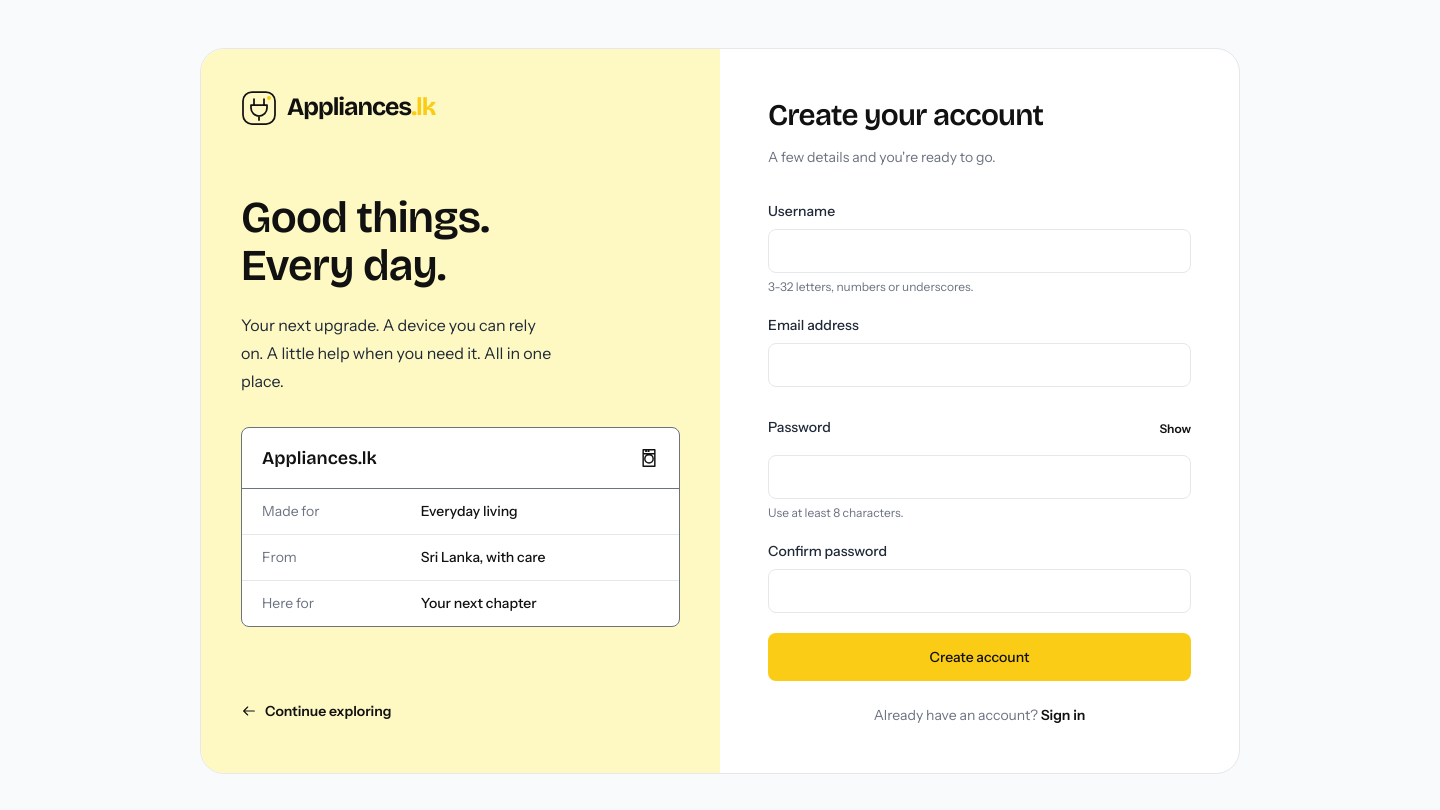
Scenario: AuthForm › Register Mode › should show error when passwords do not match
Type "newuser" into the field labelled "Username" at (980, 251), box [768,229,1191,273]
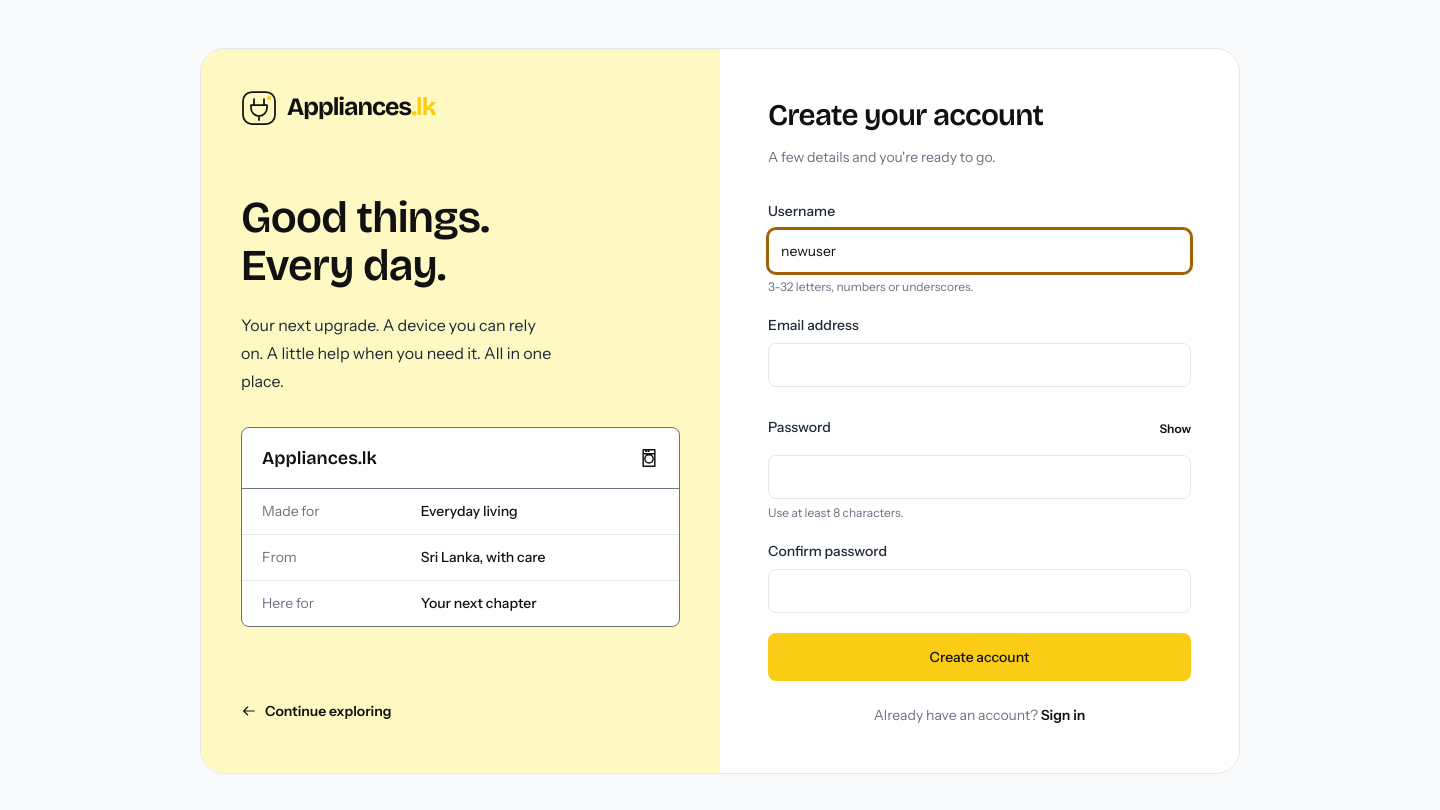
Type "new@example.com" into the field labelled "Email address" at (980, 365), box [768,343,1191,387]
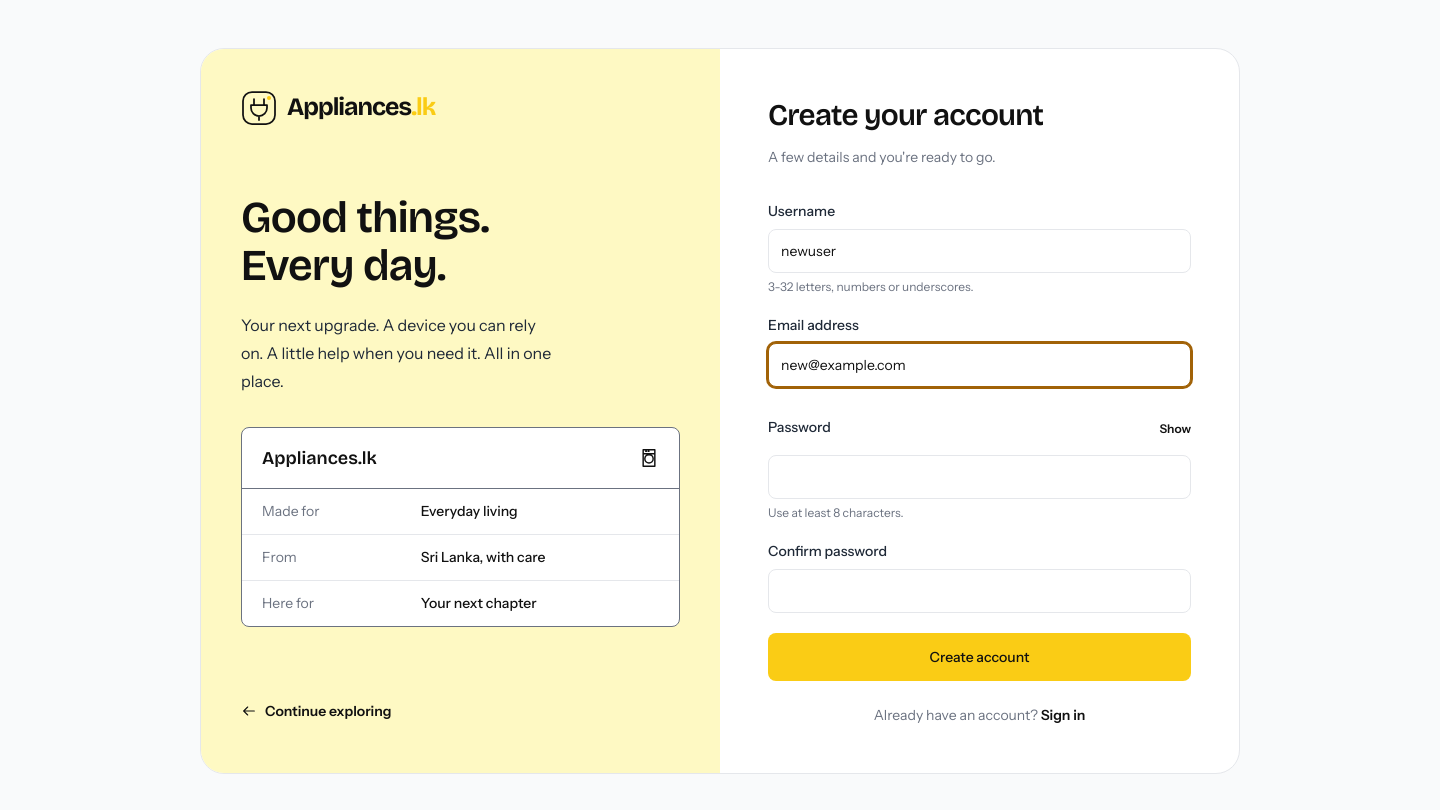
Type "password123" into the password field labelled "Password" at (980, 477), box [768,455,1191,499]
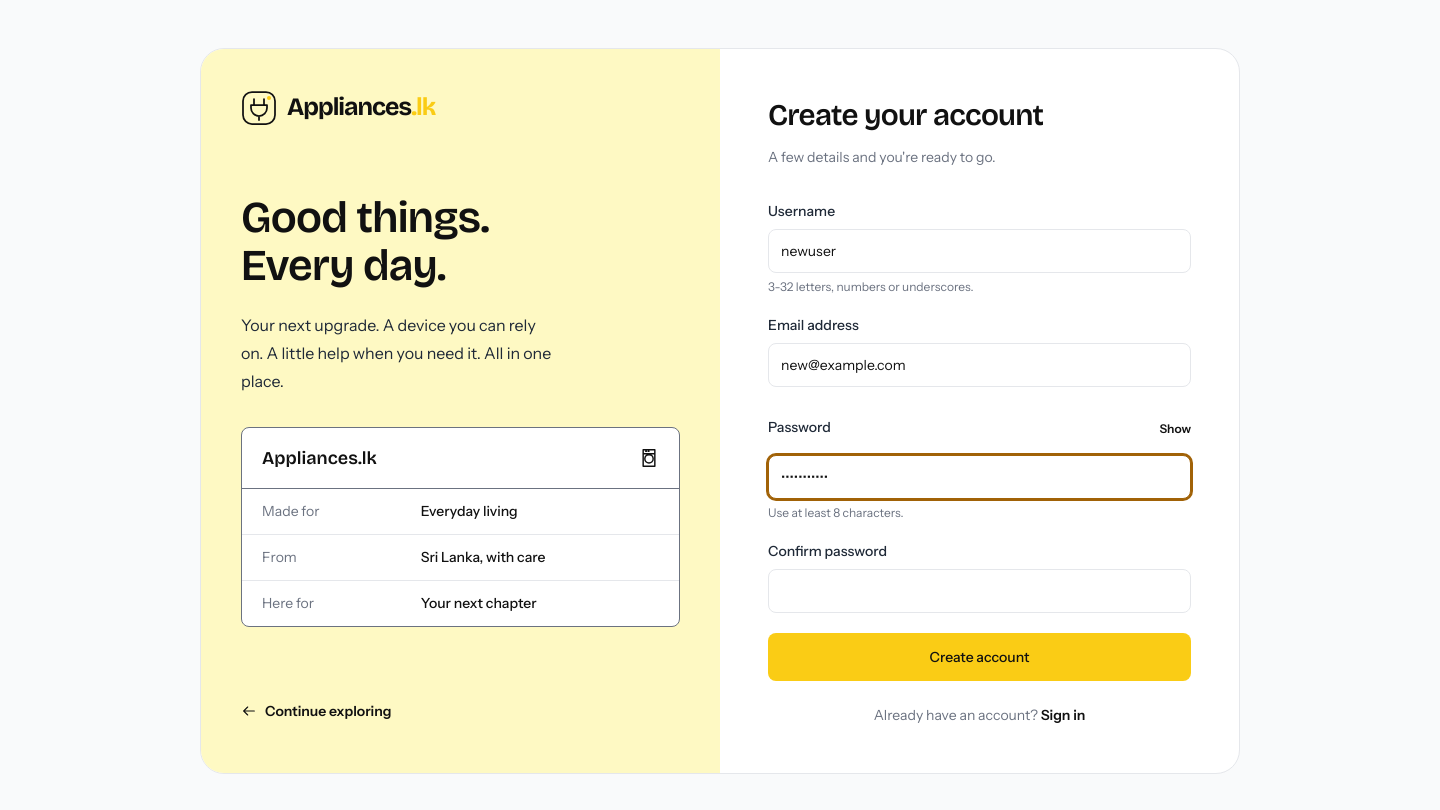
Type "different123" into the password field labelled "Confirm password" at (980, 591), box [768,569,1191,613]
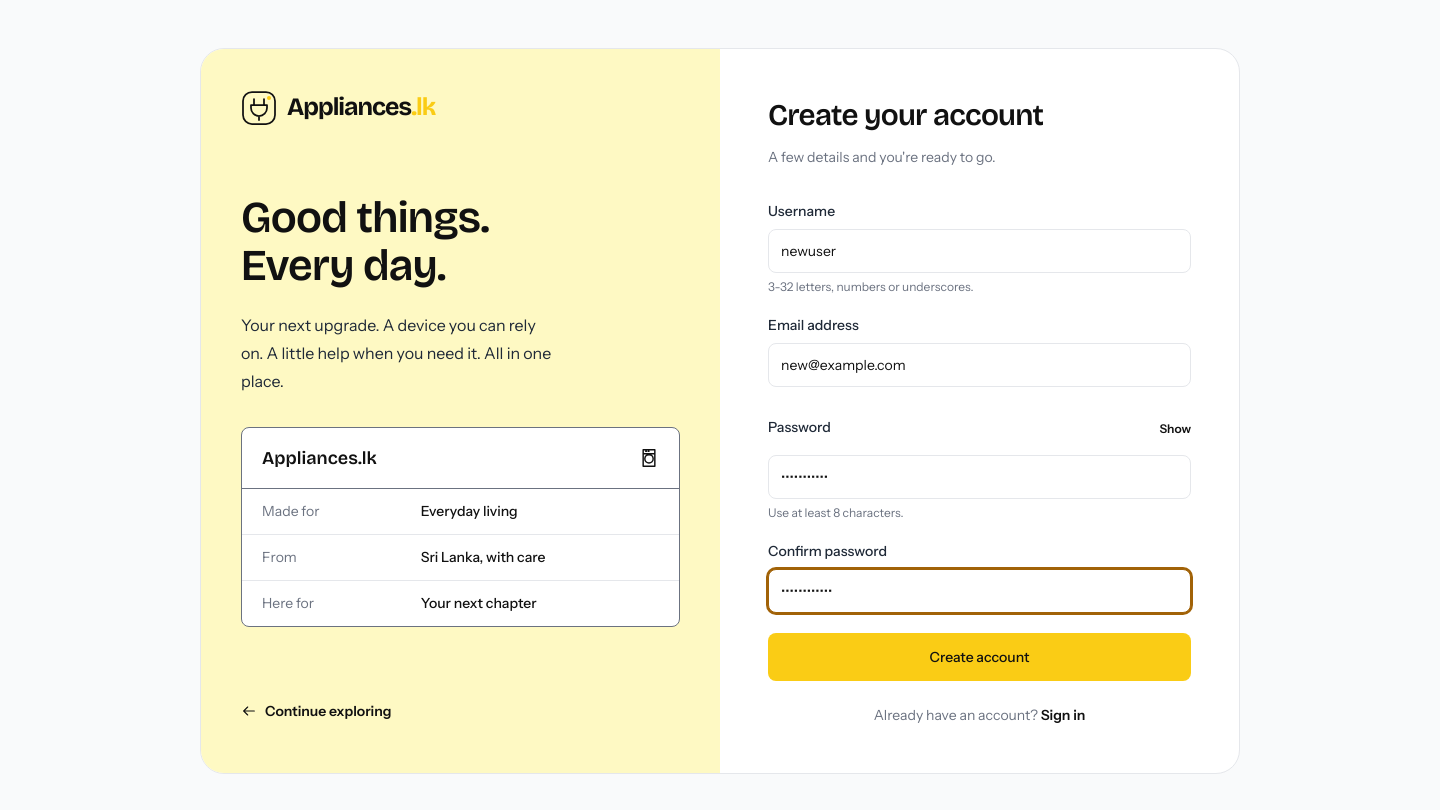
Click the button "Create account" at (980, 657), box [768,633,1191,681]
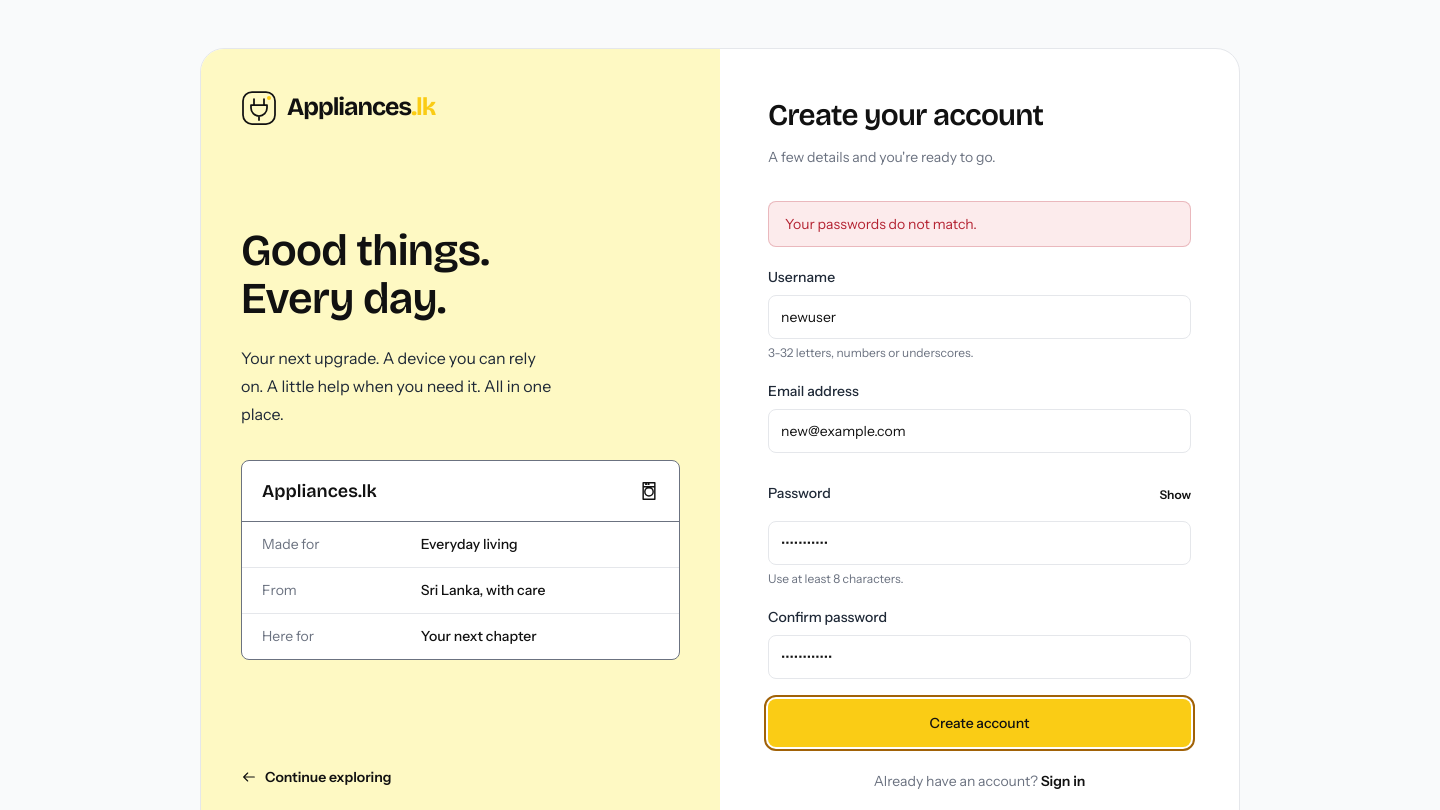
Expected: the text "Your passwords do not match." is shown, [768,201,1191,247]
